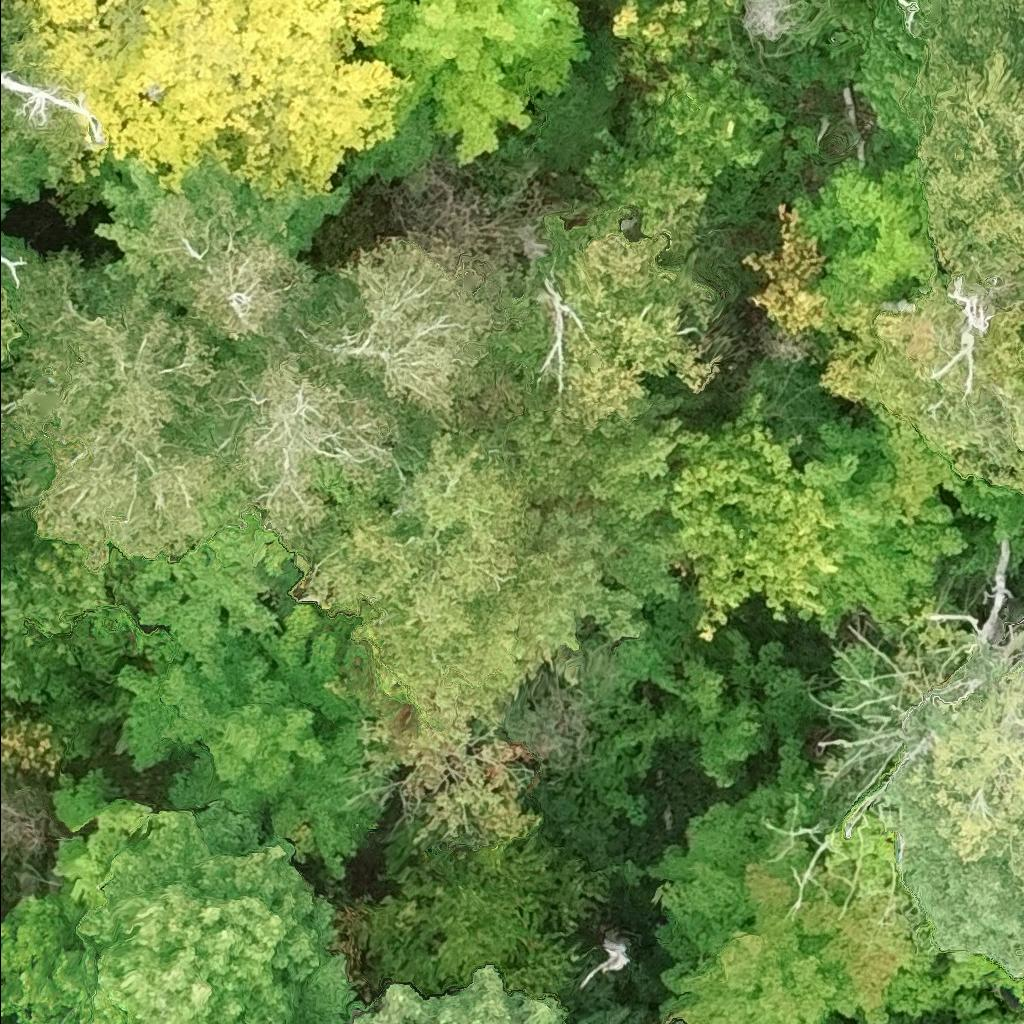crown: (0, 766, 371, 1023), (294, 426, 569, 728), (13, 0, 416, 198), (0, 251, 239, 566), (115, 608, 379, 882), (666, 395, 860, 641), (211, 319, 414, 547), (347, 0, 593, 182), (367, 820, 621, 995), (544, 207, 725, 434), (290, 232, 509, 419), (645, 734, 817, 965), (118, 476, 300, 678), (805, 413, 967, 634), (135, 185, 329, 356), (870, 283, 1023, 479), (910, 35, 1023, 299), (797, 150, 939, 328), (660, 905, 842, 1023), (349, 963, 649, 1023), (182, 161, 355, 259), (601, 0, 739, 92), (92, 159, 163, 279), (945, 0, 1023, 70), (0, 541, 22, 611), (0, 281, 20, 357), (0, 994, 10, 1023), (0, 974, 4, 992), (666, 1020, 673, 1023)
